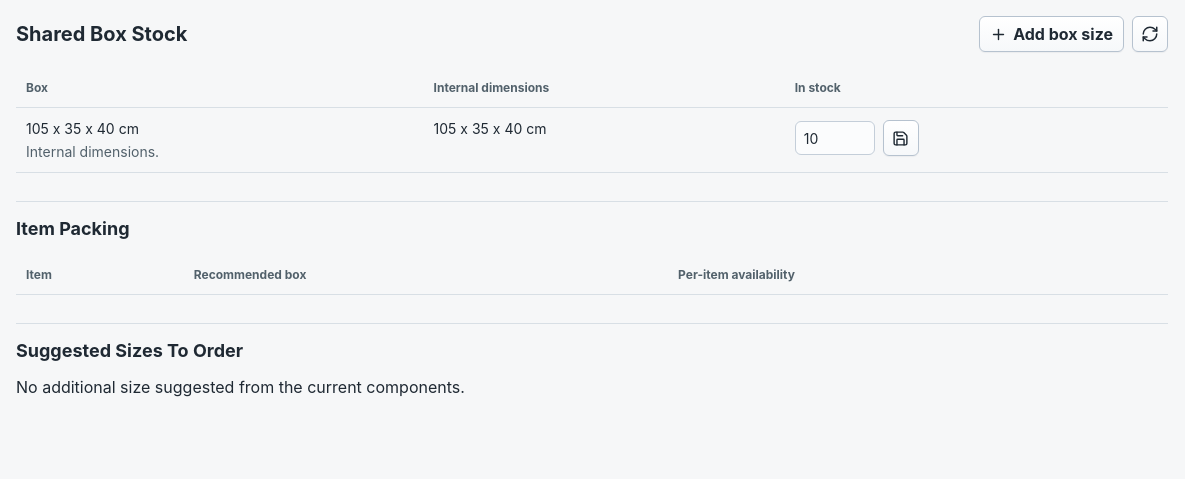
it: Box inventory › does not retry or silently overwrite a concurrent count change
The width and height of the screenshot is (1185, 479).
Replace the text in the number field named "Stock count for" with "9". click: x=835, y=138
box: [795,121,875,155]
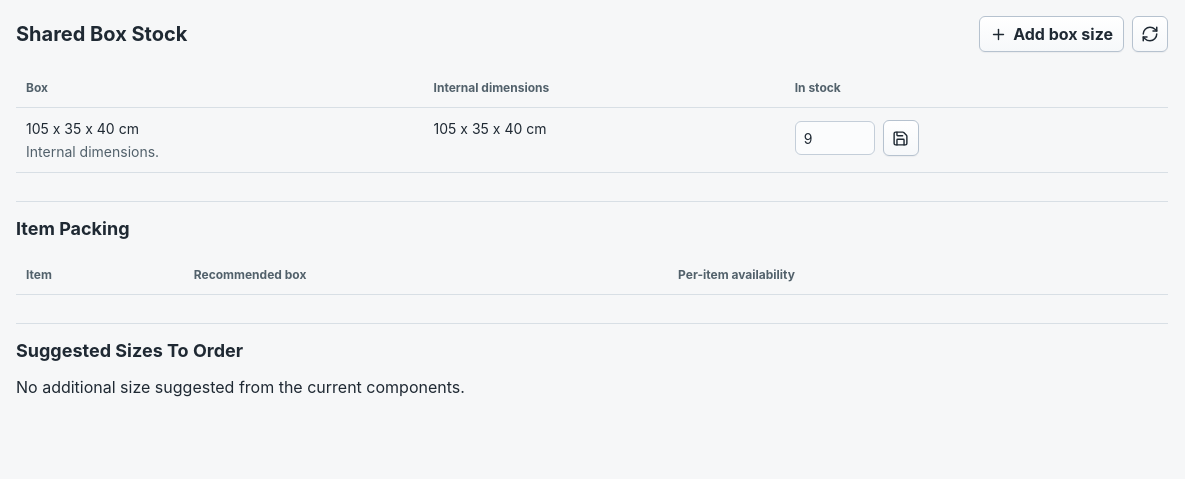
Click the button named "Save stock count for". click: x=901, y=138
box: [883,120,919,156]
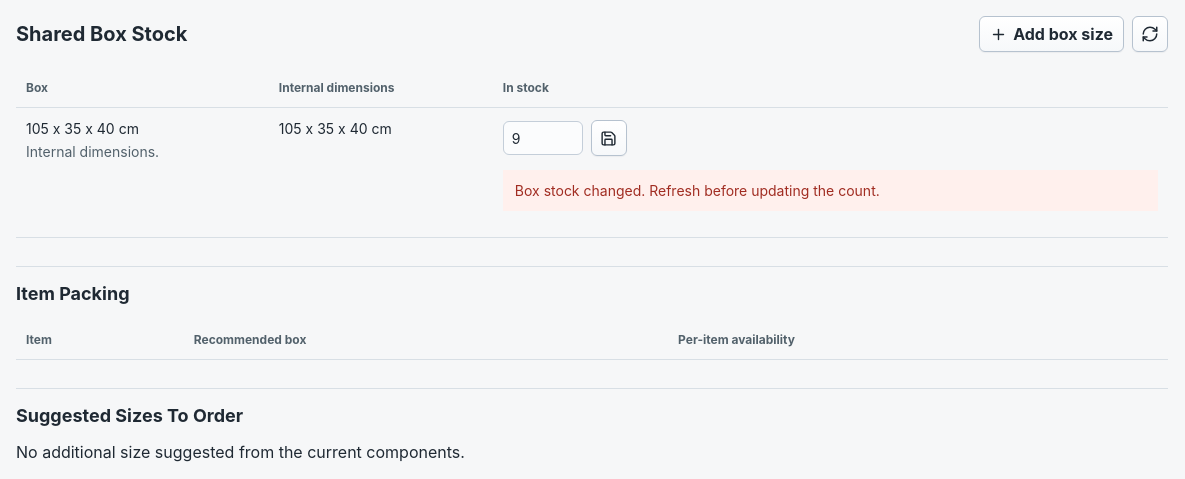
Result: the message shows "Box stock changed" at [515,182,880,199]
